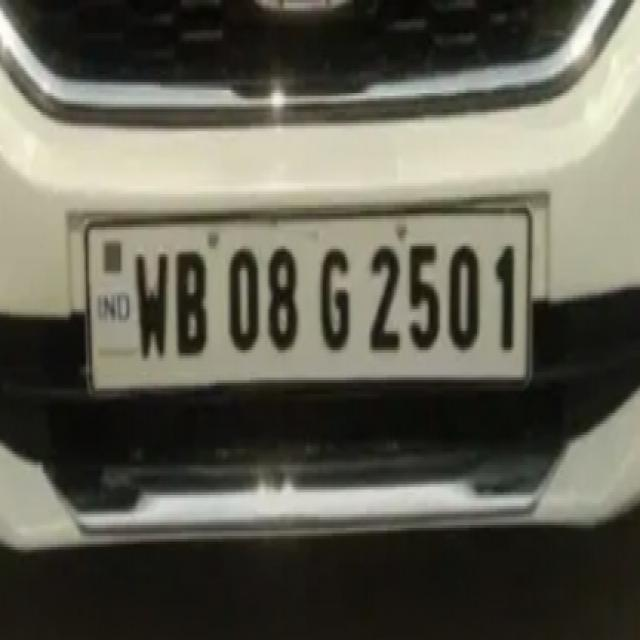0: (442, 227, 484, 361), (222, 234, 263, 361)
1: (491, 233, 520, 367)
5: (404, 233, 442, 367)
8: (264, 242, 302, 362)
B: (169, 235, 213, 364)
G: (312, 232, 357, 368)
W: (130, 231, 173, 363)
